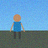person: (10, 14, 25, 39)
